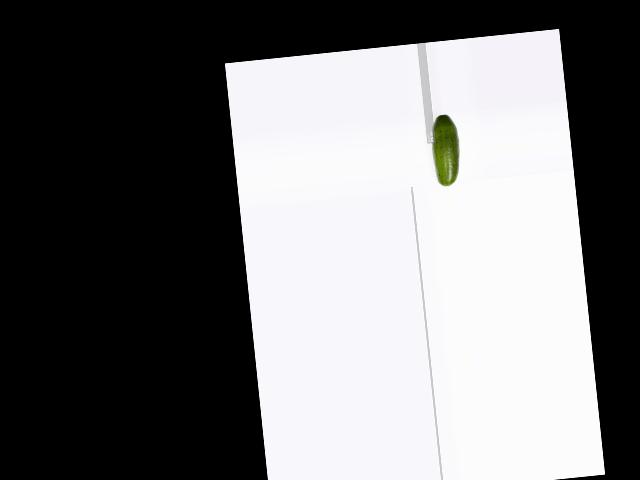cucumber: (428, 112, 463, 187)
